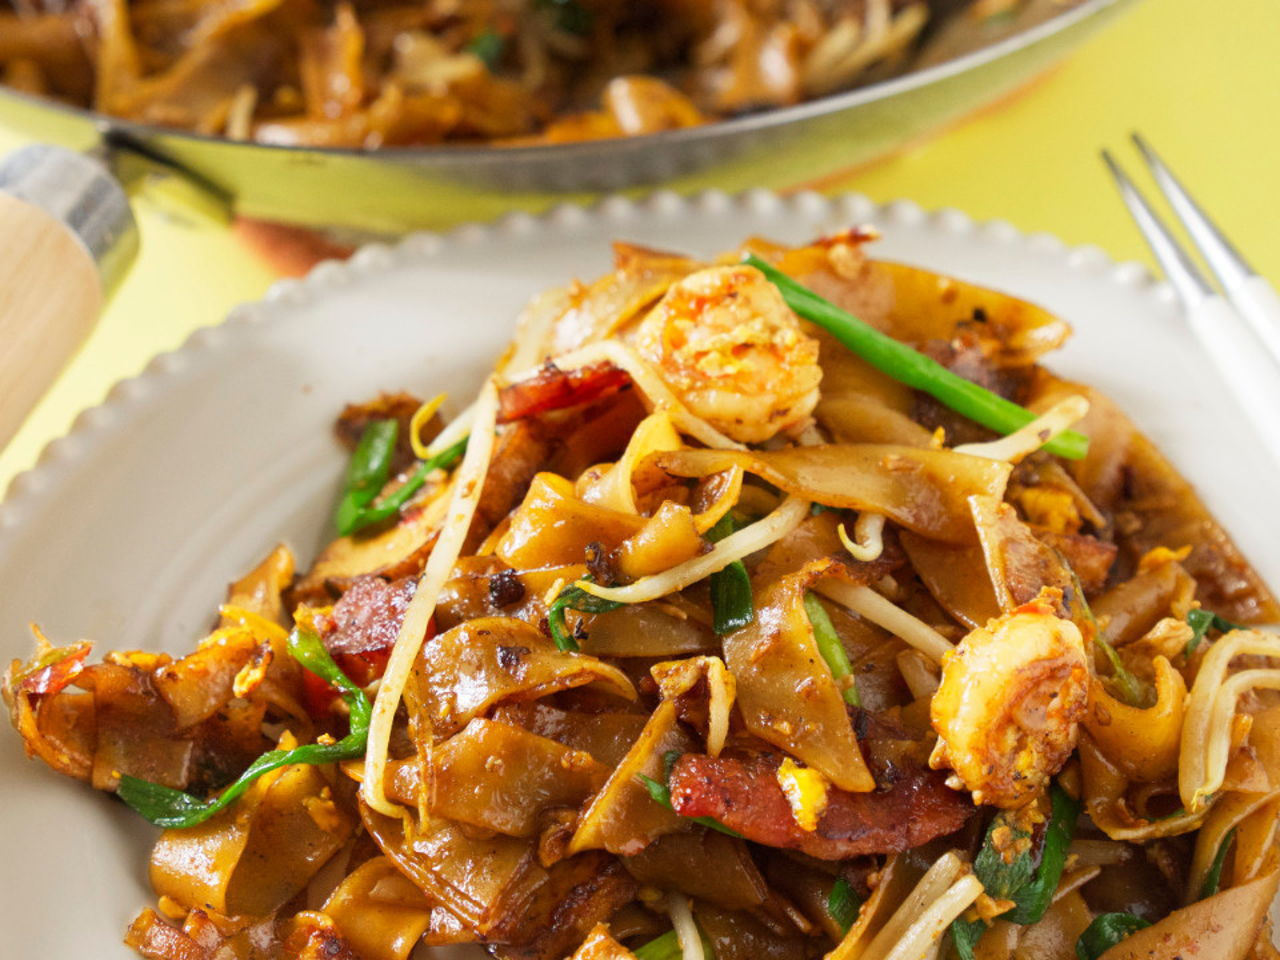Char Kway Teow: (97, 293, 1274, 956)
